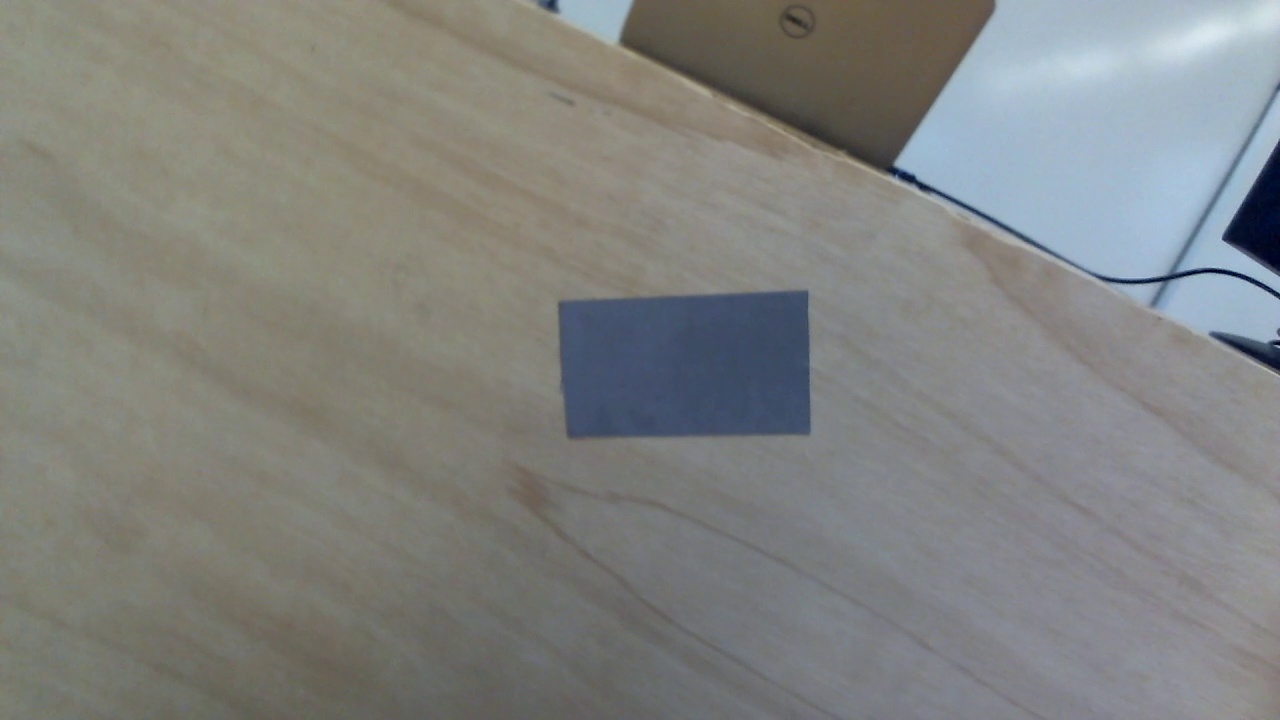Tape: (559, 290, 812, 438)
